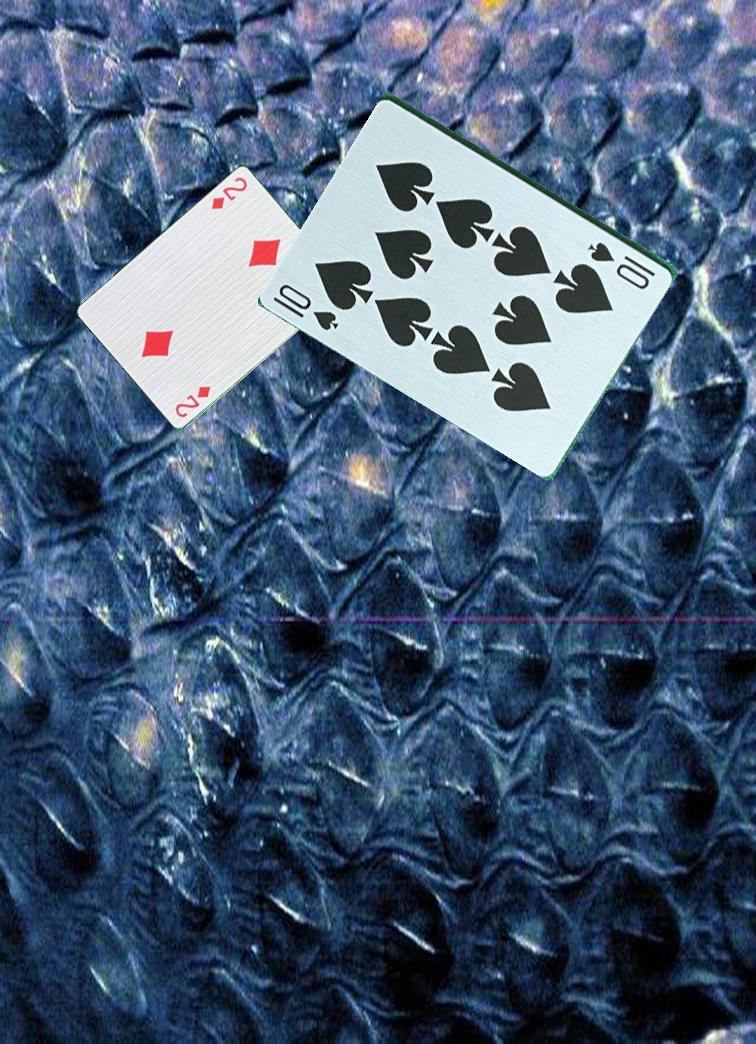2d: (166, 382, 214, 425), (207, 174, 250, 213)
ts: (584, 238, 659, 291), (270, 280, 342, 334)
